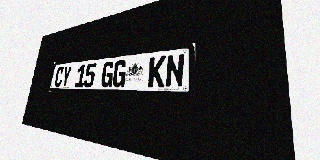1: (74, 64, 87, 87)
5: (83, 63, 97, 87)
C: (54, 66, 64, 87)
G: (112, 60, 127, 87), (100, 61, 115, 87)
K: (147, 55, 166, 87)
N: (165, 53, 185, 87)
Y: (61, 66, 72, 87)
